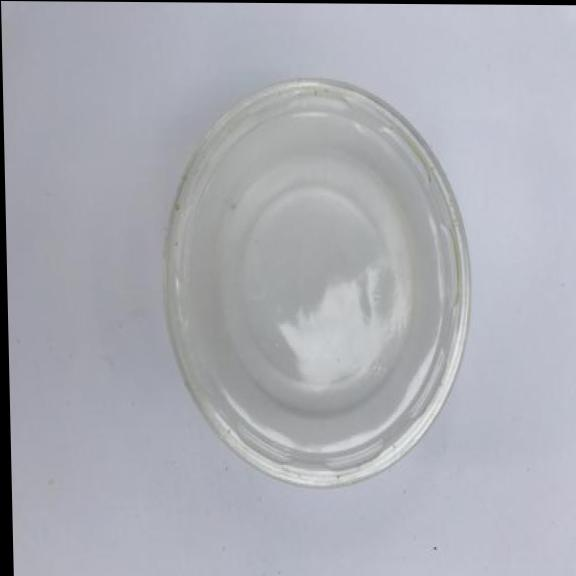Plastik: (157, 68, 483, 495)
